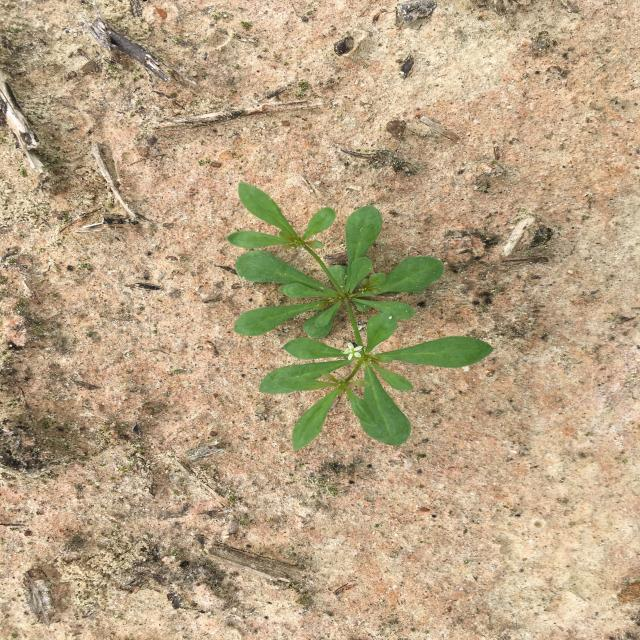Carpetweed: (227, 182, 494, 450)
